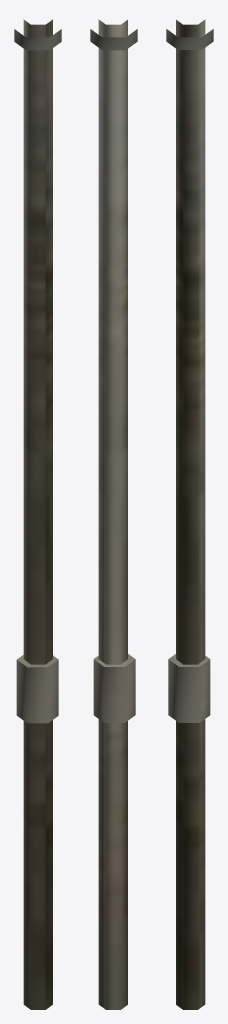
Rendered from pipesystem02b.glb.
3 renders of one model, left to right at view 1: azimuth 30°, elevation 25°; view 2: azimuth 150°, elevation 25°; view 3: azimuth 330°, elevation 25°, orthographic.
Visible parts, largest first — view 1: 0_powerbox001; view 2: 0_powerbox001; view 3: 0_powerbox001.
Boxes of the visible parts, x1,y1,x2,y2 form: 0_powerbox001: (14, 19, 61, 1009); 0_powerbox001: (90, 19, 137, 1009); 0_powerbox001: (166, 19, 213, 1009).
Bounding box in the file's own units: 0.0527 × 1.39 × 0.0609.
1 material, 1 textured.
